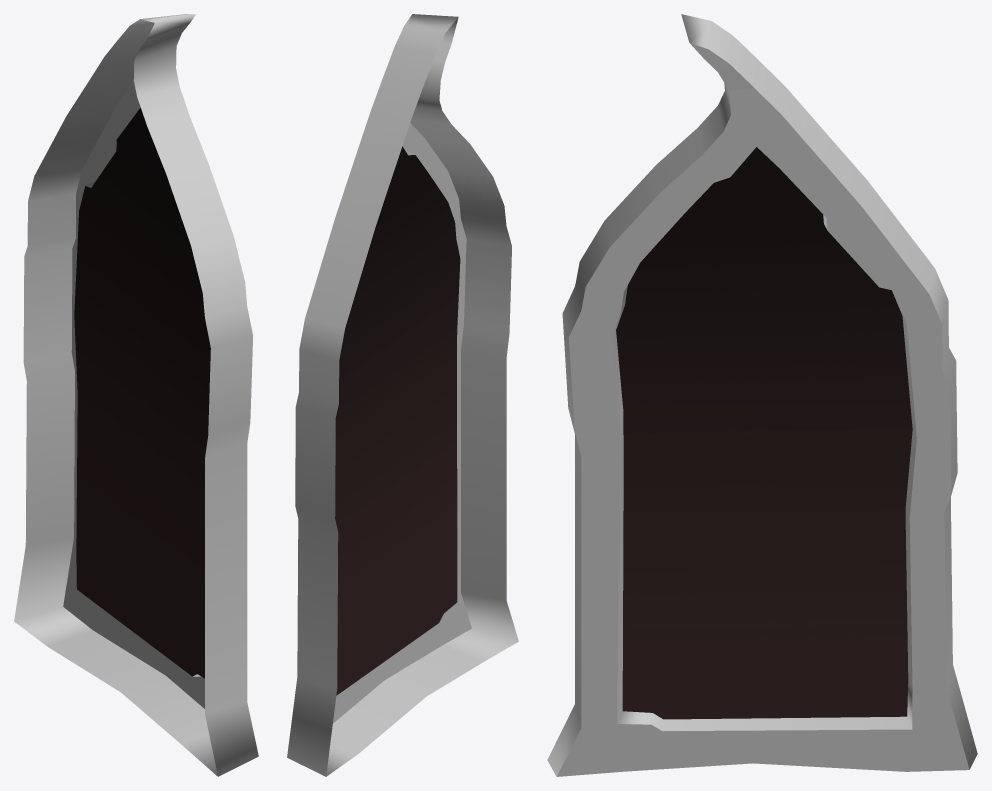
File: lower_city_window_03.fbx
3 views of the same model, side by side, from view 1: azimuth 30°, elevation 25°; view 2: azimuth 150°, elevation 25°; view 3: azimuth 270°, elevation 25° (orthographic). The views are drawn at different scales.
Parts seen in each view (by area): view 1: lower_city_window_03; view 2: lower_city_window_03; view 3: lower_city_window_03.
Boxes of the visible parts, left/top/right/bottom form: lower_city_window_03: left=14, top=14, right=258, bottom=776; lower_city_window_03: left=287, top=14, right=518, bottom=776; lower_city_window_03: left=547, top=14, right=977, bottom=776.
Bounding box in the file's own units: 0.0675 × 0.9891 × 0.517.
